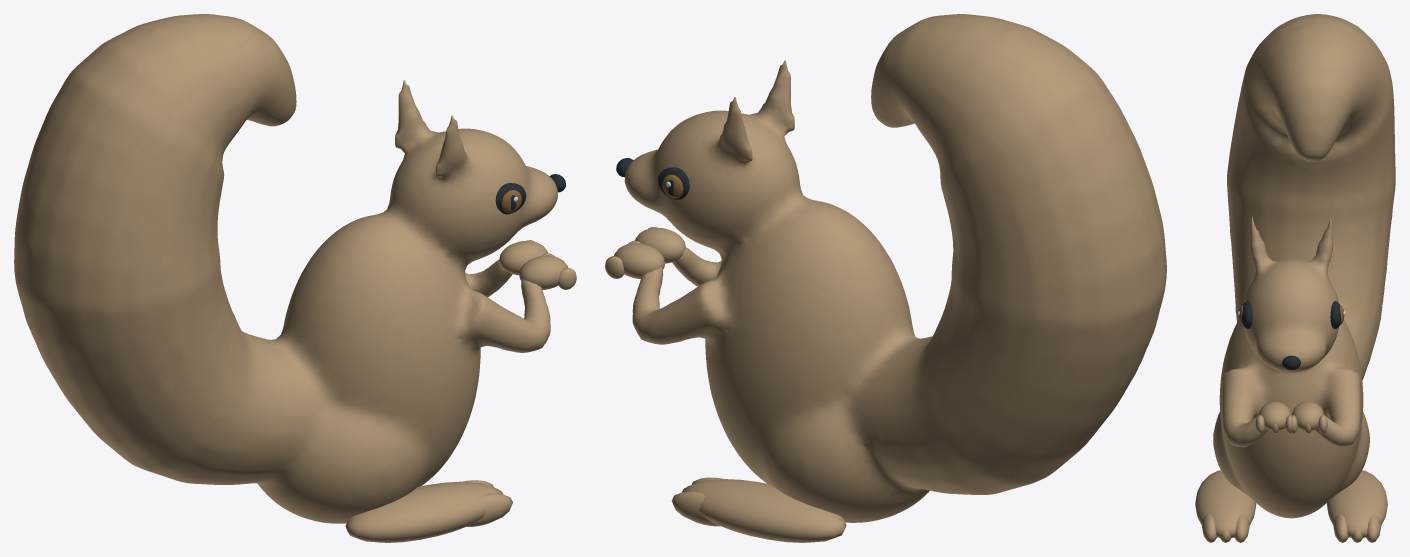
File: tree-squirrel.glb
3 renders of one model, left to right at view 1: azimuth 30°, elevation 25°; view 2: azimuth 150°, elevation 25°; view 3: azimuth 270°, elevation 25°, orthographic. The views are drawn at different scales.
Parts seen in each view (by area): view 1: Continuous anatomical skin, Rounded paw.001, Rounded paw, Rounded paw.002, Toe.003; view 2: Continuous anatomical skin, Rounded paw.003, Rounded paw.002, Rounded paw, Toe.011; view 3: Continuous anatomical skin, Rounded paw.003, Rounded paw.001, Rounded paw.002, Rounded paw, Toe.005, Toe.009, Toe.011, Toe.003, Dark eye socket.
Part boxes in pixels (x1,y1,x2,y2): Continuous anatomical skin: (14, 14, 557, 523); Rounded paw.001: (345, 481, 500, 542); Rounded paw: (519, 255, 567, 289); Rounded paw.002: (499, 241, 547, 275); Toe.003: (466, 493, 512, 526); Continuous anatomical skin: (624, 14, 1166, 522); Rounded paw.003: (684, 479, 846, 542); Rounded paw.002: (614, 243, 664, 278); Rounded paw: (635, 227, 685, 263); Toe.011: (671, 491, 720, 526); Continuous anatomical skin: (1213, 14, 1395, 518); Rounded paw.003: (1326, 470, 1387, 537); Rounded paw.001: (1195, 470, 1256, 537); Rounded paw.002: (1291, 401, 1324, 430); Rounded paw: (1259, 401, 1291, 430); Toe.005: (1234, 514, 1249, 542); Toe.009: (1333, 514, 1348, 542); Toe.011: (1366, 514, 1381, 542); Toe.003: (1202, 514, 1217, 542); Dark eye socket: (1242, 301, 1252, 328).
Bounding box in the file's own units: 0.3415 × 0.32 × 0.1387.
Materials: 4 (4 with a texture image).
